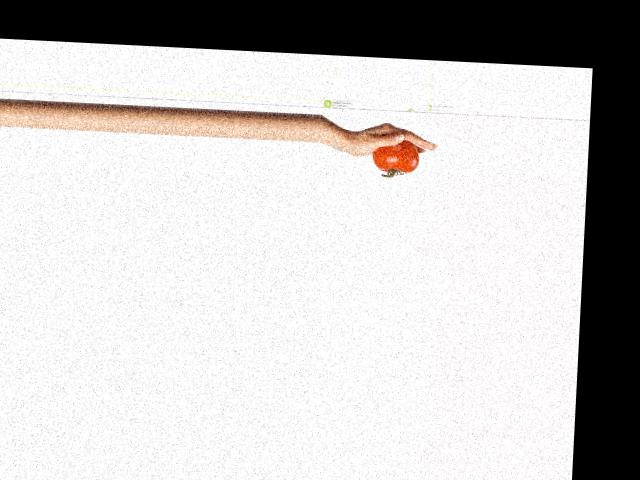tomato: (372, 138, 420, 173)
